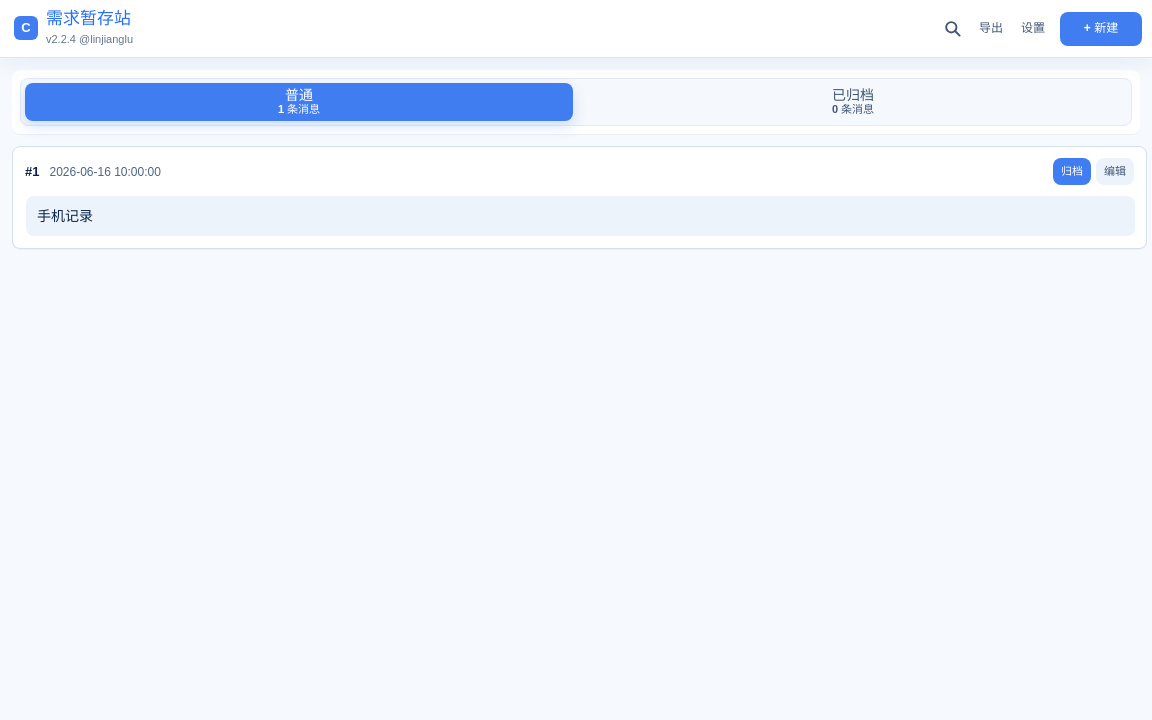
Scenario: android shell › copies message text through the Android system clipboard
Click the button "手机记录". click: (65, 216)
box: [26,196,1135,236]
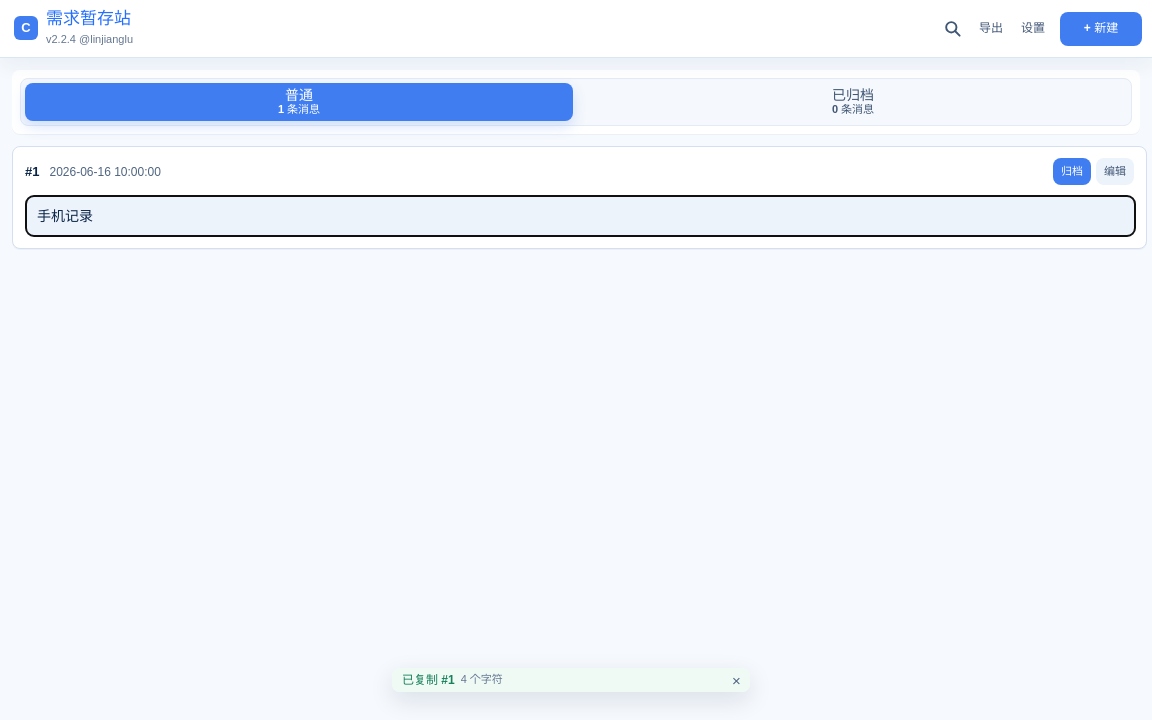
Expected: the text "4 个字符" is shown, [461,673,503,687]
